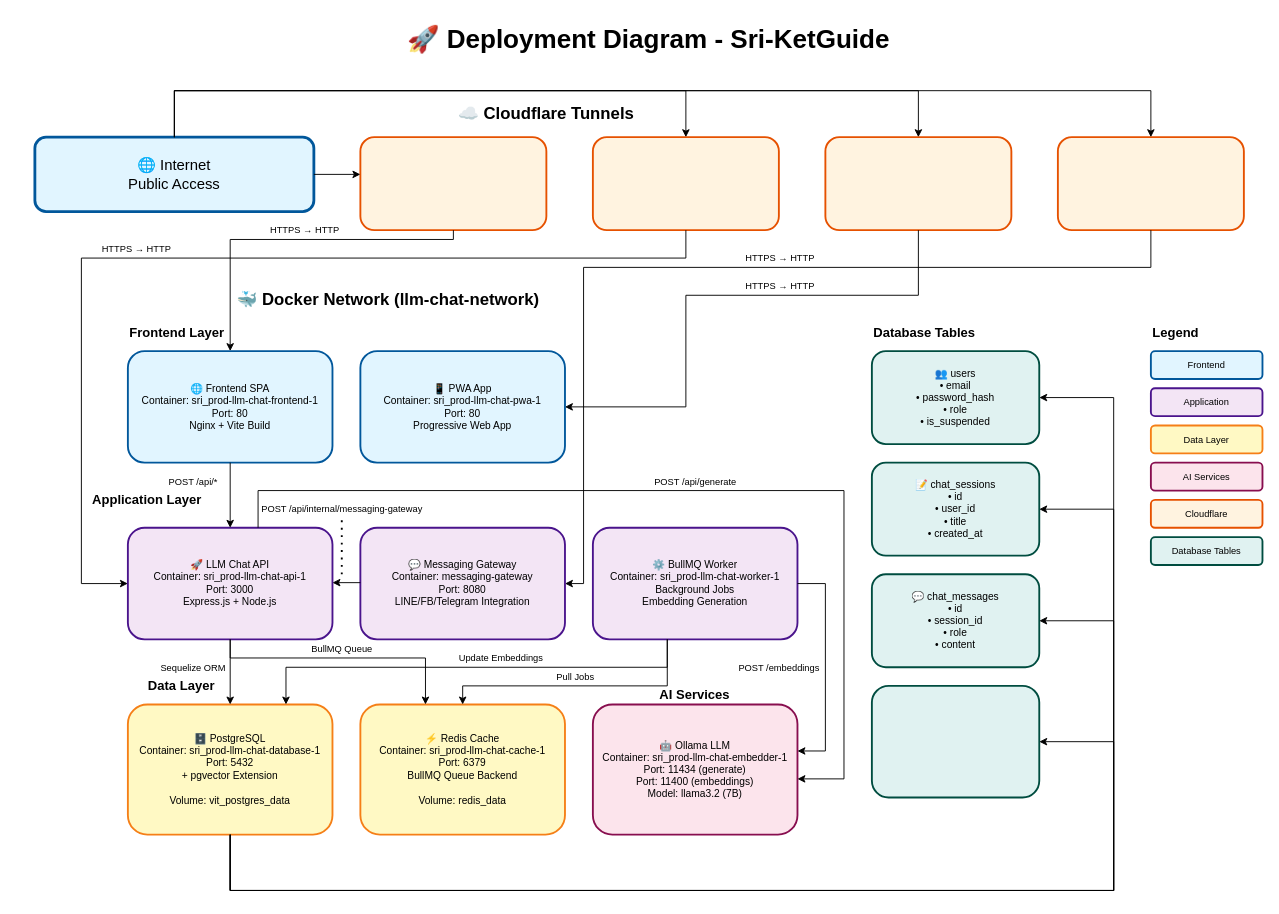
This 1279x914 diagram has some shape labels left out. The centre of each missing label's shape, as x and y in pixels:
"🌐 Frontend Tunnel frontend.sri-ketguide.com Container: cf-tunnel-frontend" goes at point (453, 183).
"🏢 businesses • id • name • description • embedding (vector) • embedding_status" goes at point (955, 741).
"📱 PWA Tunnel pwa.sri-ketguide.com Container: cf-tunnel-prod" goes at point (918, 183).
"🔔 Webhooks Tunnel webhooks.sri-ketguide.com Container: cf-tunnel-webhooks" goes at point (1150, 183).
"🚀 API Tunnel api.sri-ketguide.com Container: cf-tunnel-api" goes at point (685, 183).
